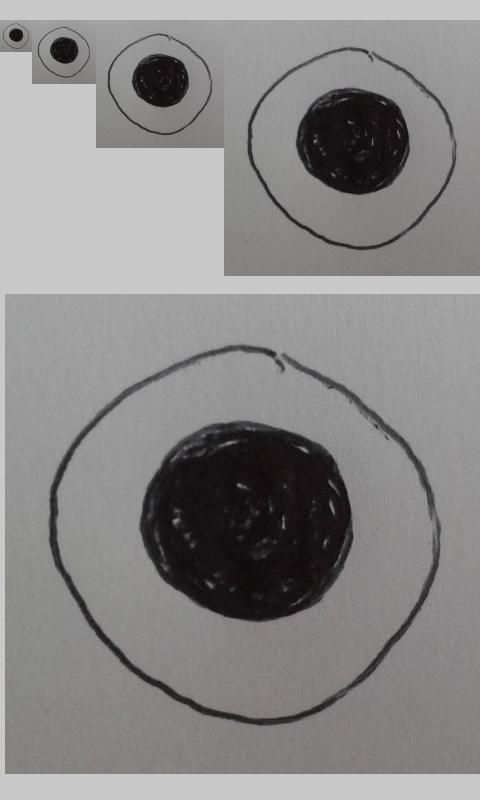radio_button: (47, 341, 447, 729), (244, 45, 458, 252), (106, 32, 214, 136), (36, 25, 91, 79), (2, 22, 30, 50)
